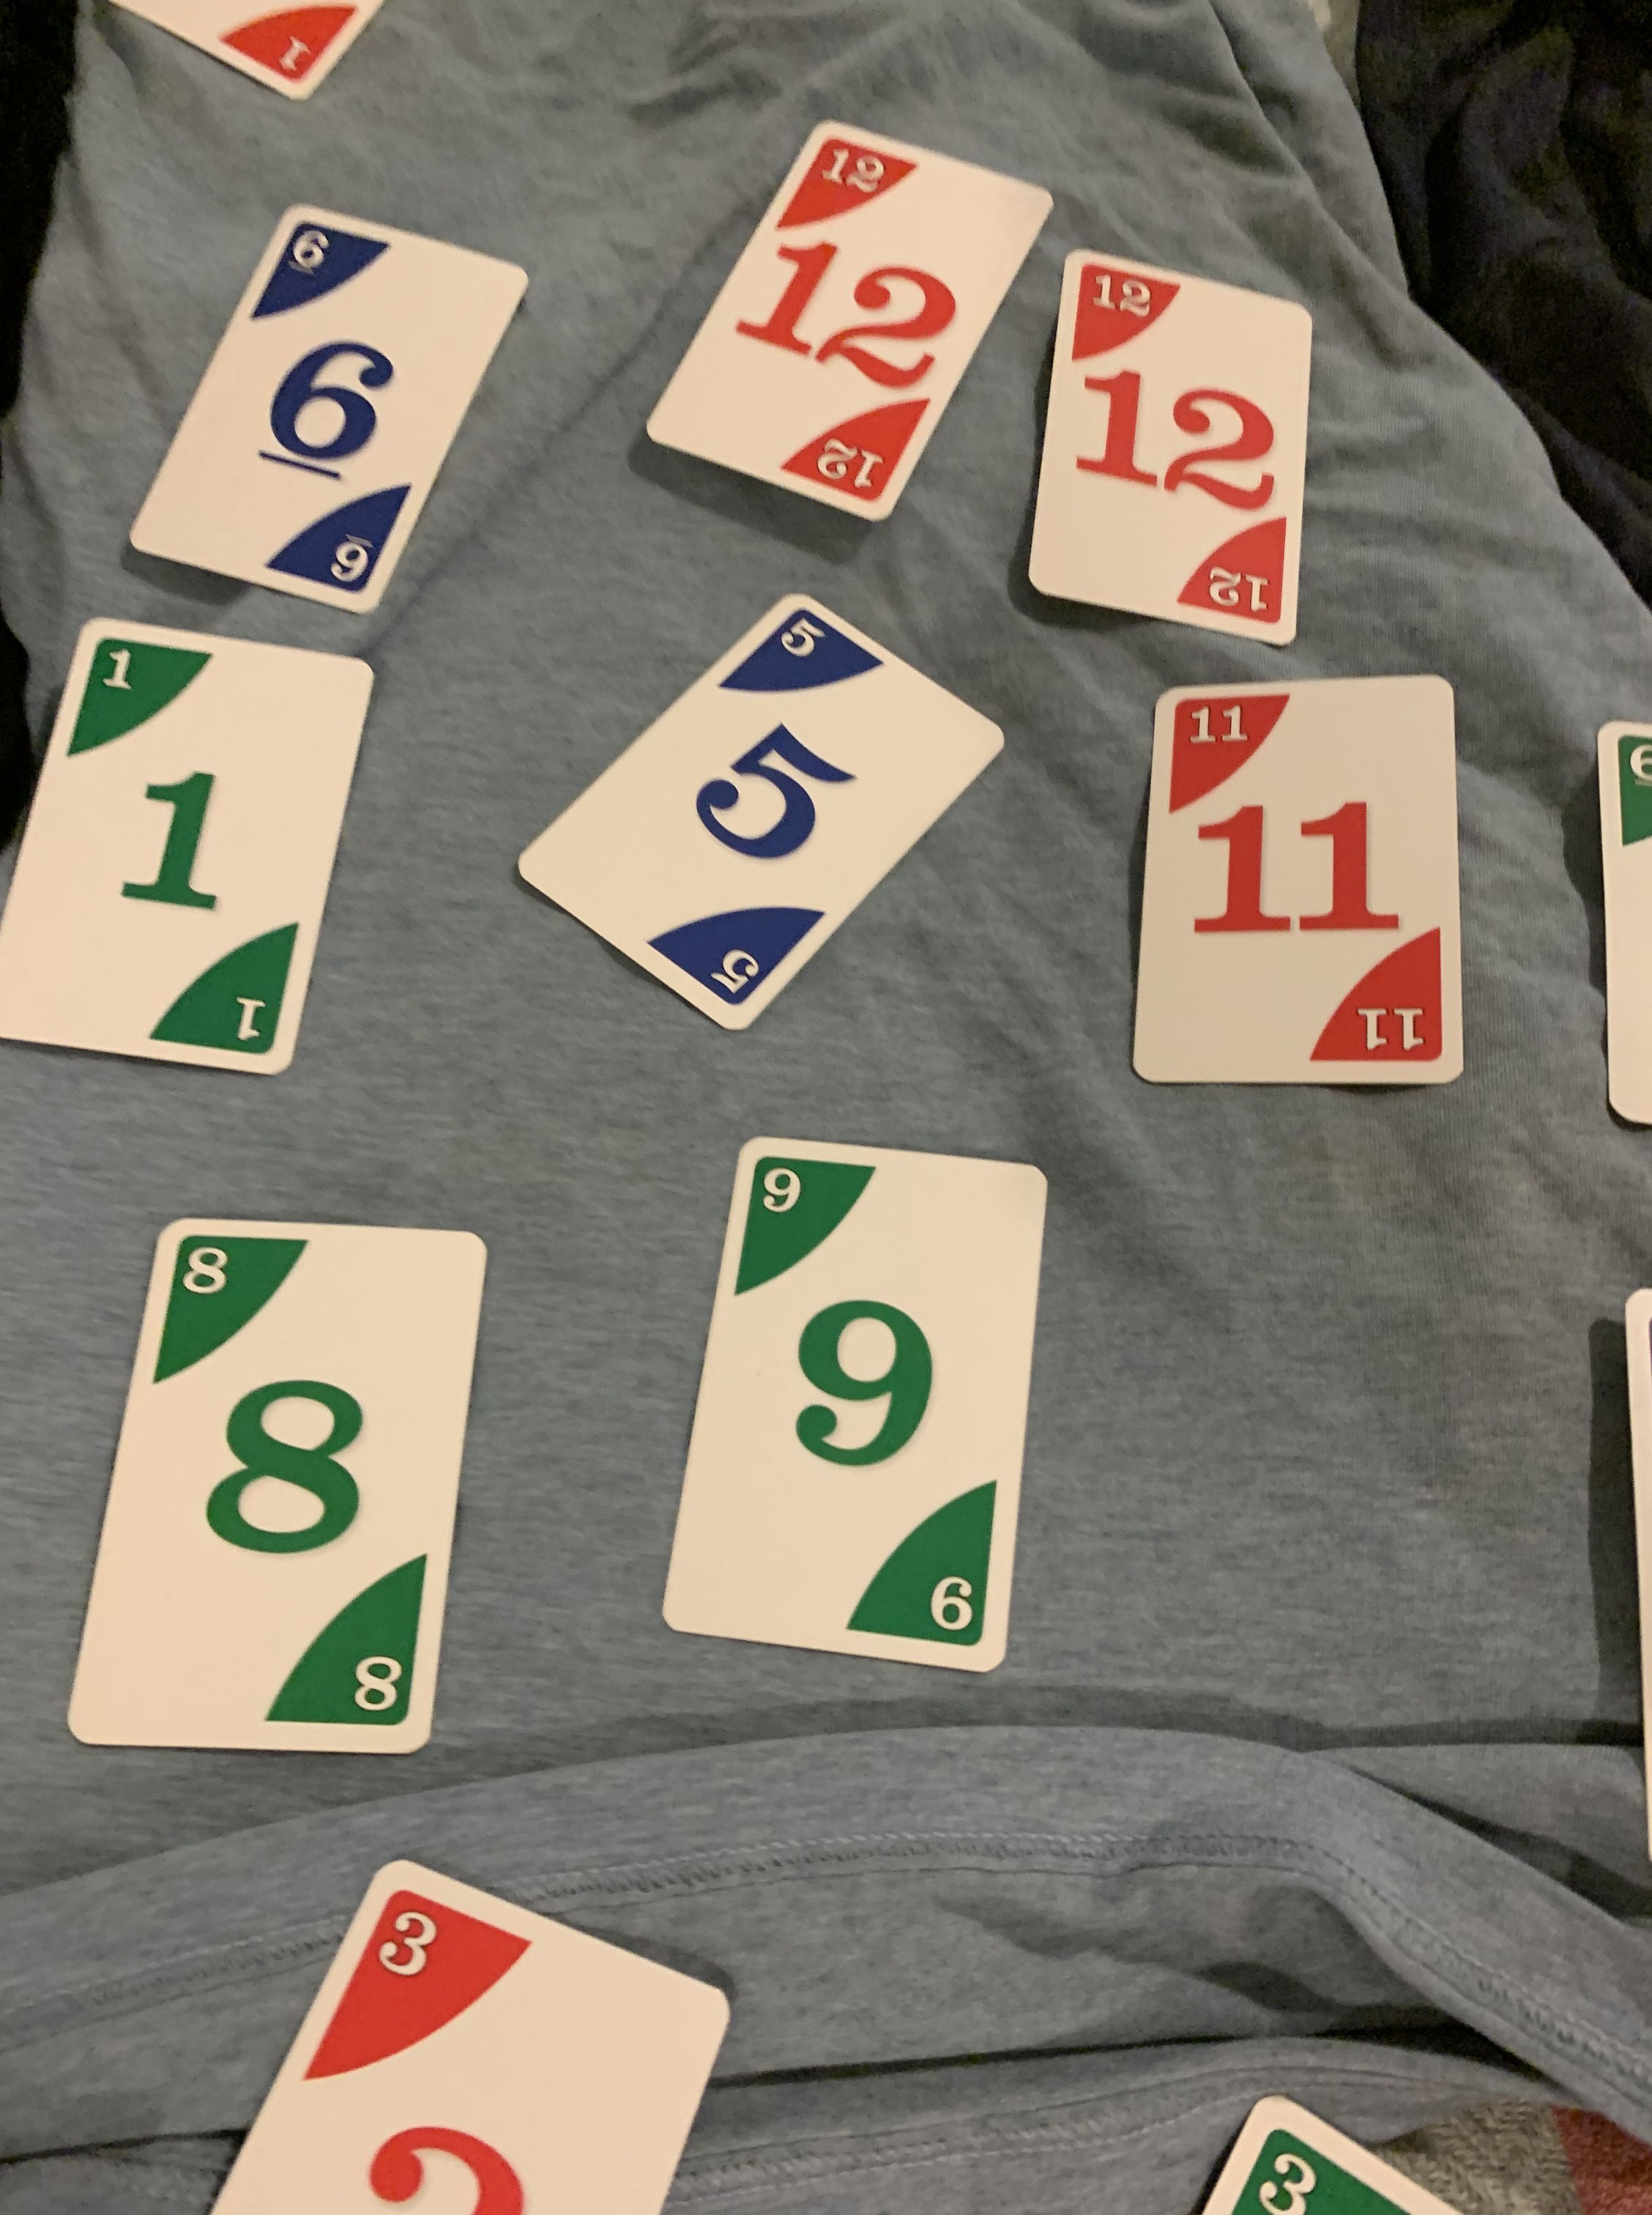eight: (43, 1205, 500, 1762)
eleven: (1112, 661, 1485, 1095)
five: (515, 576, 1015, 1038)
nine: (639, 1118, 1062, 1689)
one: (0, 613, 385, 1083)
six: (123, 193, 536, 616)
twelve: (626, 115, 1064, 529), (1008, 240, 1326, 663)
